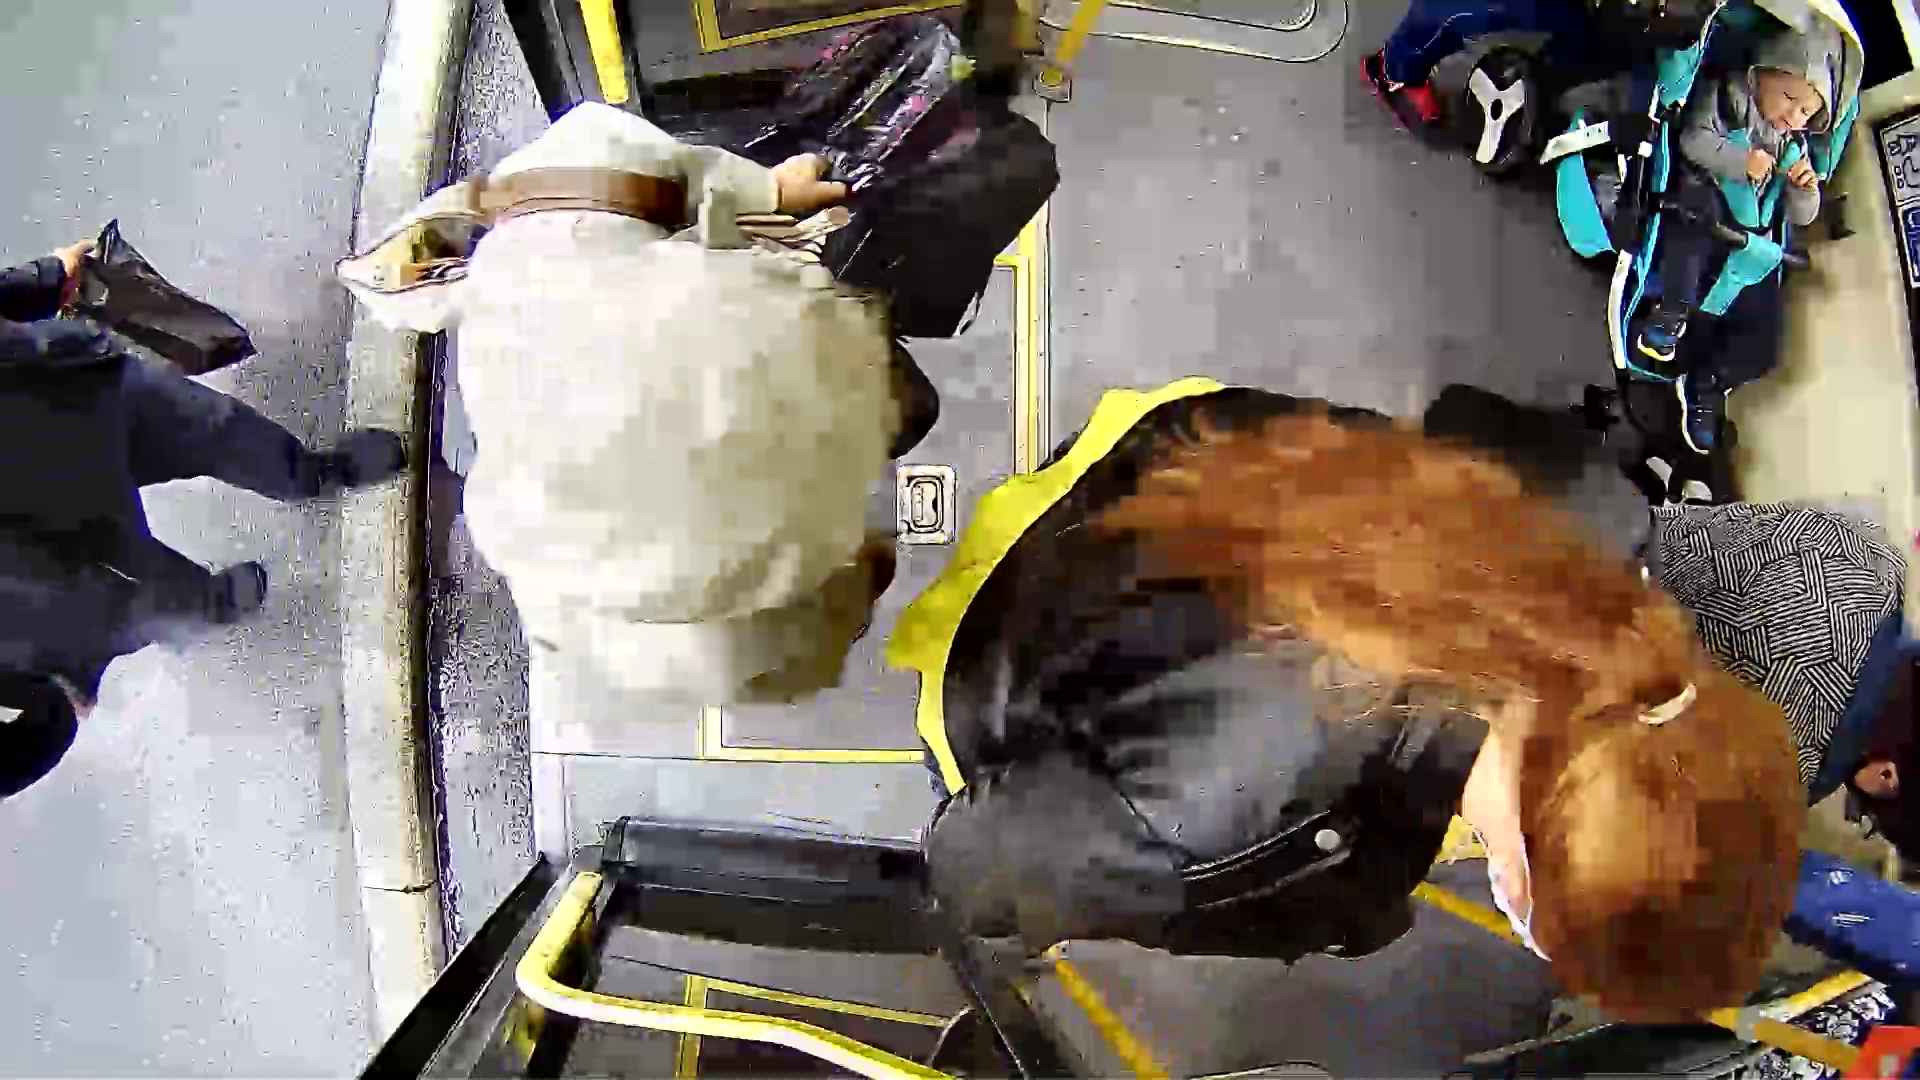person: (952, 367, 1809, 1050), (321, 141, 895, 692)
